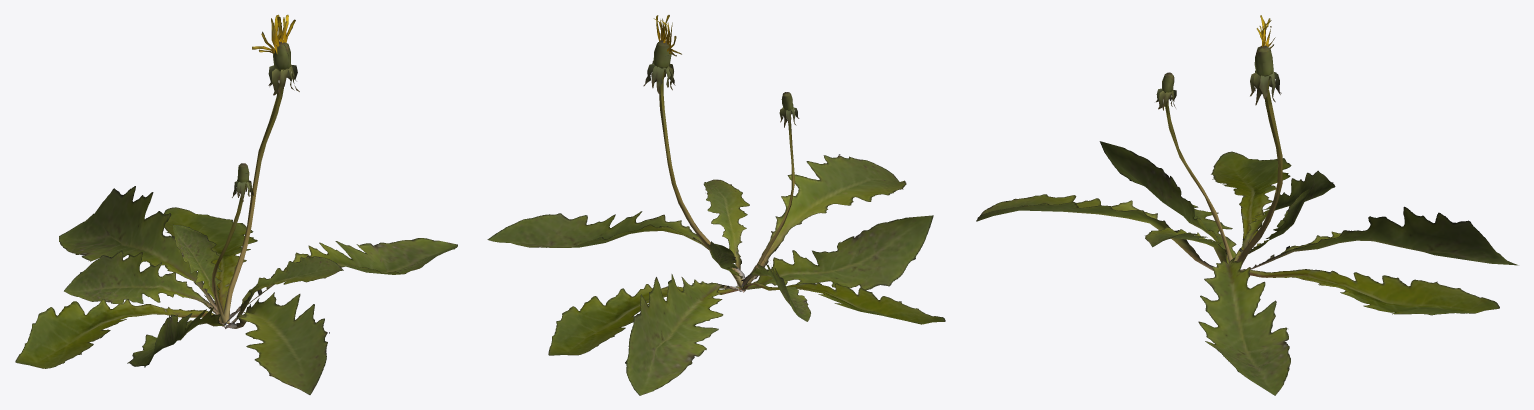
Rendered from dandelion_01.glb.
The picture shows the model from 3 angles, left to right: view 1: azimuth 30°, elevation 25°; view 2: azimuth 150°, elevation 25°; view 3: azimuth 270°, elevation 25°; orthographic projection. The views are drawn at different scales.
Visible parts, largest first — view 1: dandelion_01; view 2: dandelion_01; view 3: dandelion_01.
Boxes of the visible parts, box(x1,y1,x2,y2) form: dandelion_01: box(15, 14, 457, 394); dandelion_01: box(487, 15, 945, 395); dandelion_01: box(976, 15, 1518, 395).
Bounding box in the file's own units: 0.4206 × 0.25 × 0.4137.
1 material, 1 textured.
